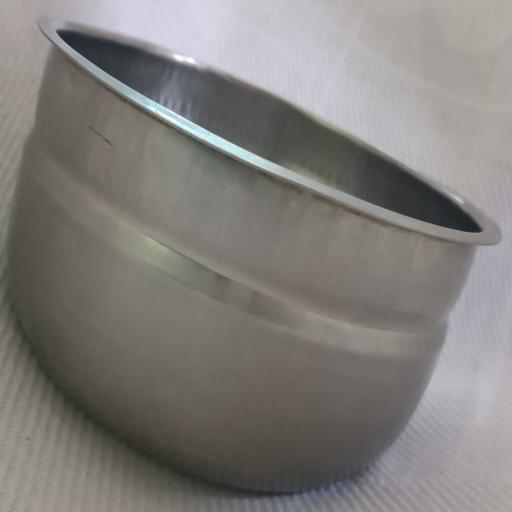vessel: (9, 19, 500, 491)
